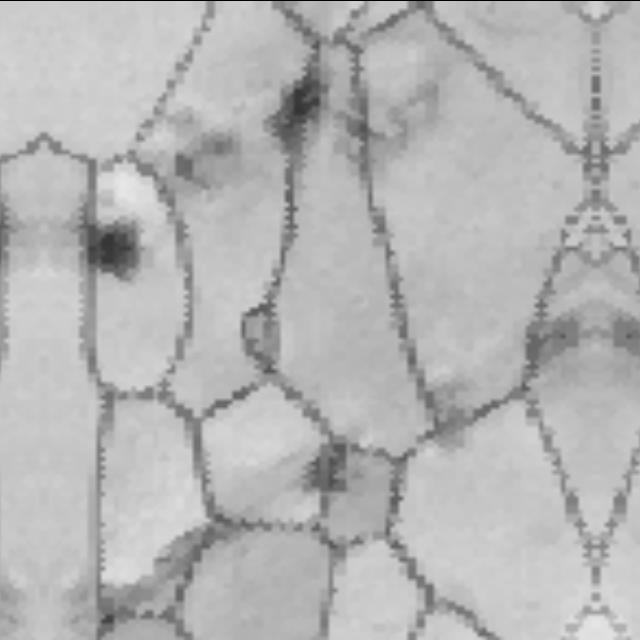good_void: (135, 91, 241, 197), (331, 86, 442, 178), (135, 512, 228, 596), (256, 65, 334, 158), (511, 301, 588, 383), (294, 425, 364, 499), (420, 378, 483, 460), (80, 216, 143, 281), (607, 306, 640, 381), (87, 603, 126, 639)
